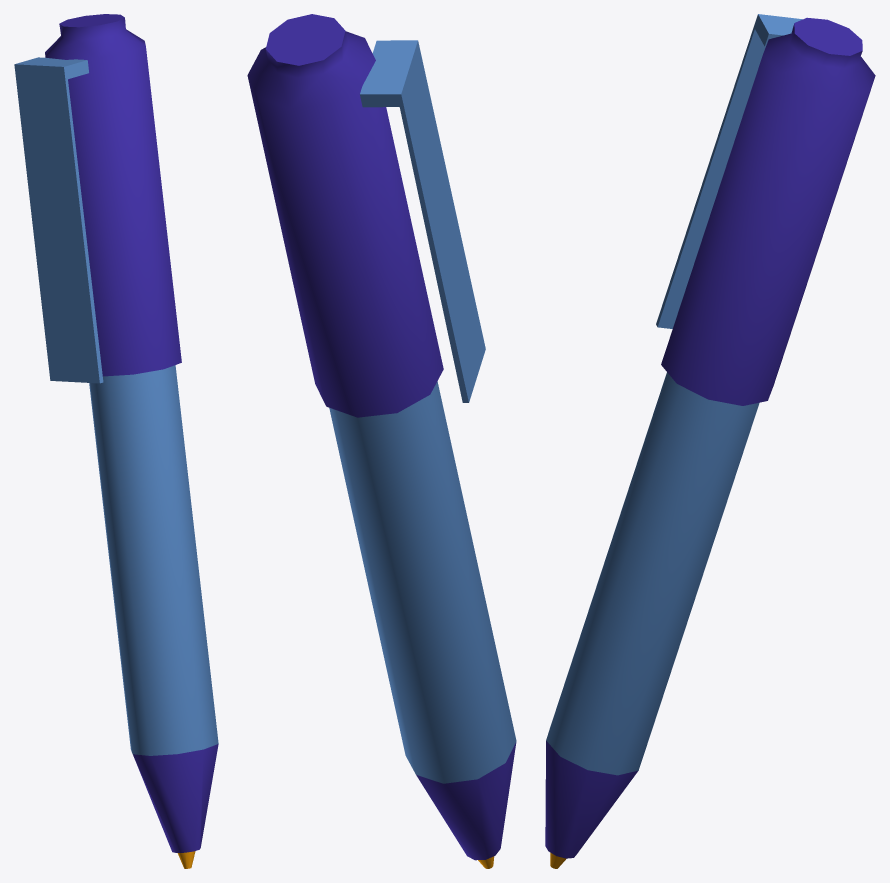
The model's file is Pen.fbx.
3 views of the same model, side by side, from view 1: azimuth 30°, elevation 25°; view 2: azimuth 150°, elevation 25°; view 3: azimuth 270°, elevation 25° (orthographic). The views are drawn at different scales.
Parts seen in each view (by area): view 1: Pen; view 2: Pen; view 3: Pen.
Boxes of the visible parts, x1,y1,x2,y2 form: Pen: (14, 14, 218, 868); Pen: (247, 14, 516, 868); Pen: (545, 14, 875, 868).
Size of the model in its own units: 3.27 by 18.09 by 6.33.
